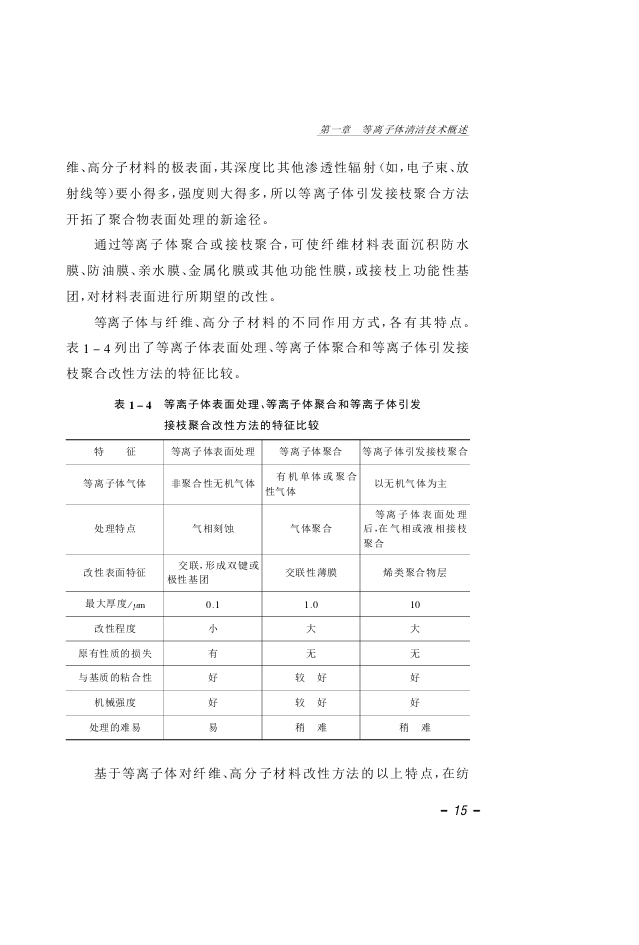table: (65, 439, 471, 741)
